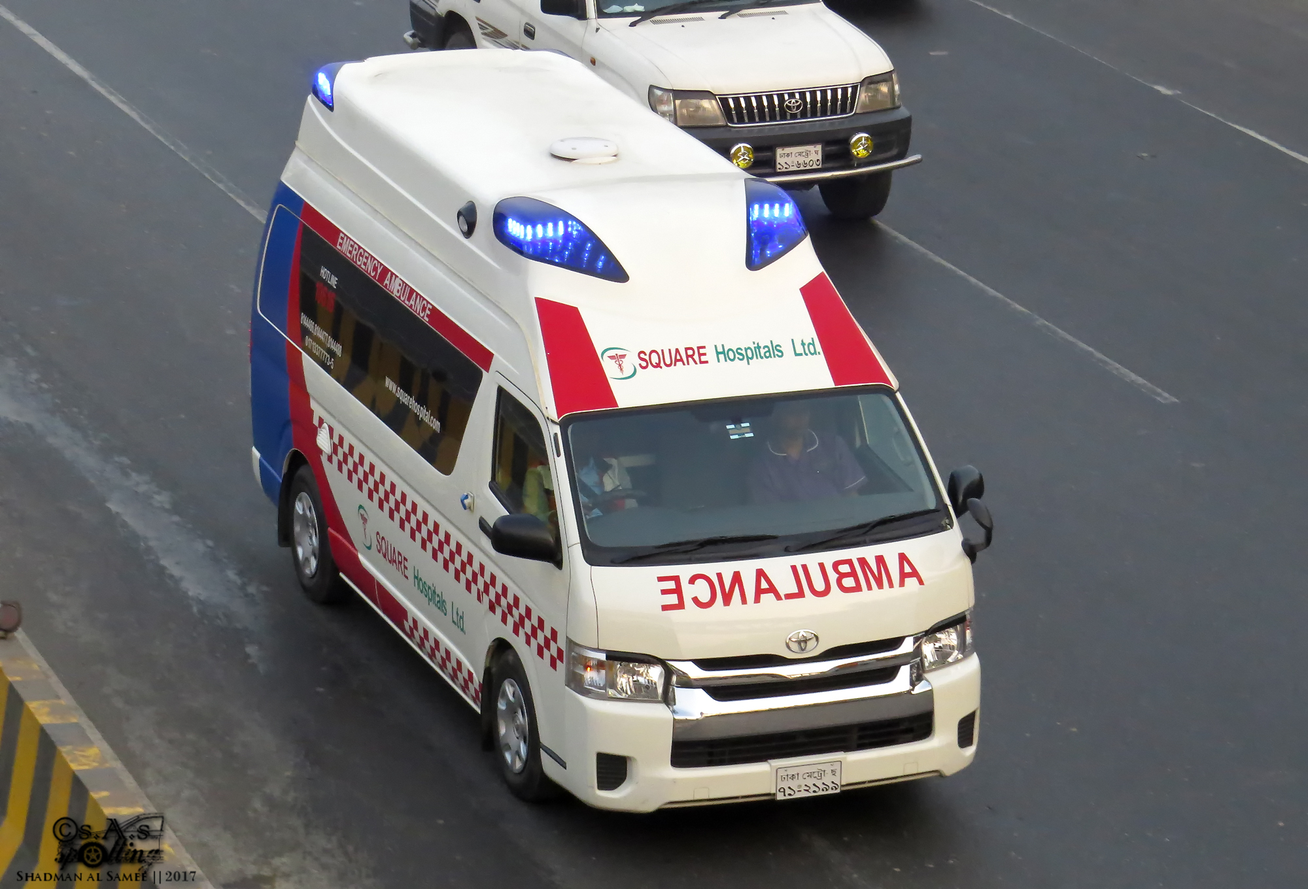Ambulance: (233, 31, 1010, 839)
